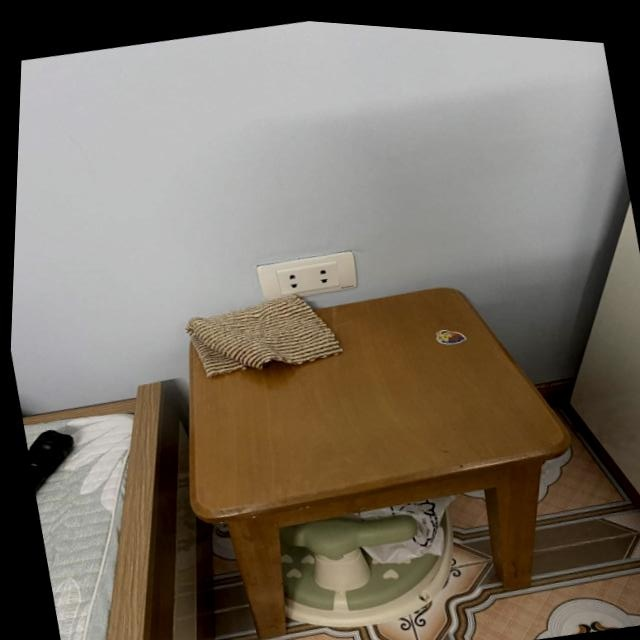outlet: (252, 244, 360, 312)
